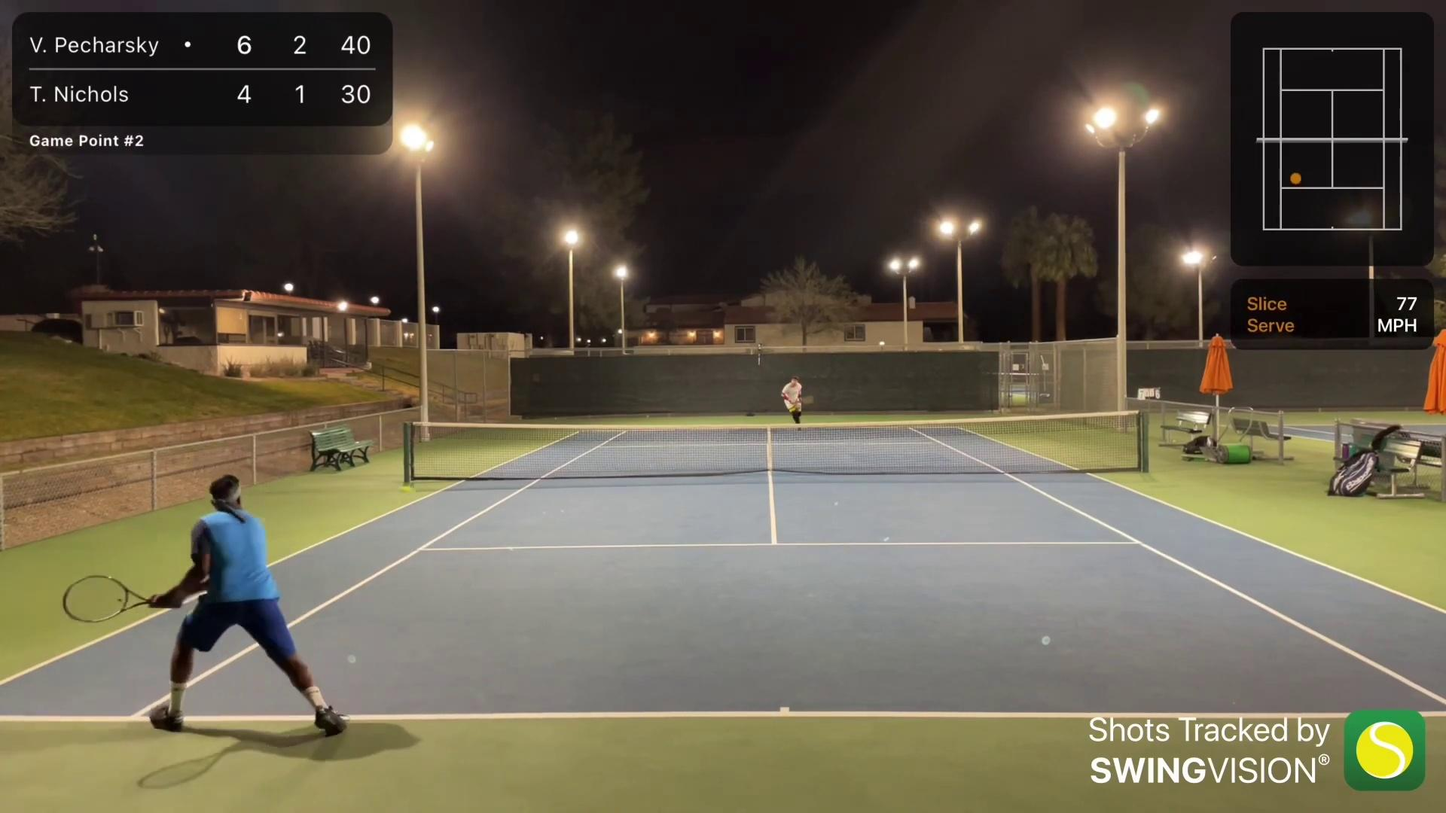ball: (398, 485, 407, 493)
